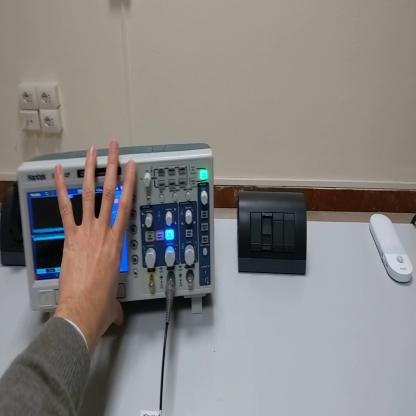hand: (55, 139, 135, 333)
oscilloscope: (18, 144, 225, 320)
socket: (2, 181, 27, 268)
